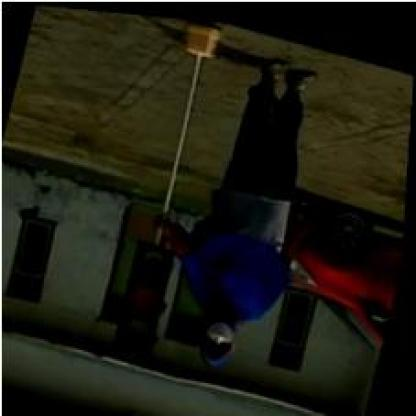yellow: (114, 234, 180, 356)
